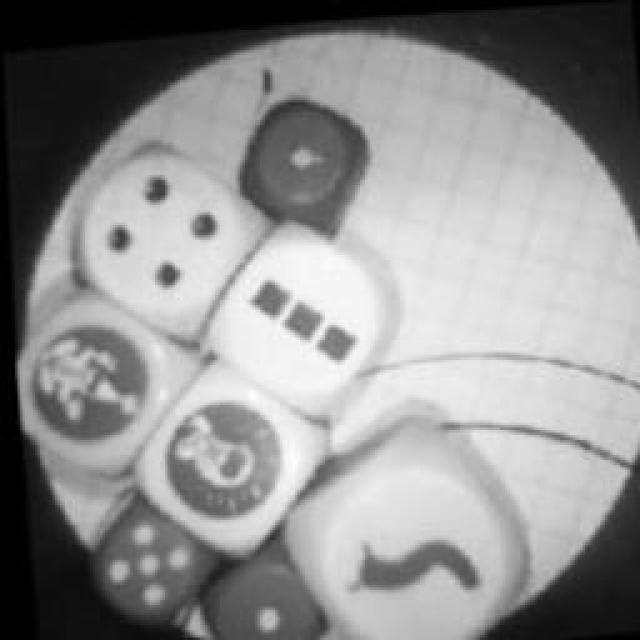dice_1: (220, 79, 382, 244), (188, 525, 334, 640)
dice_4: (45, 111, 275, 351)
dice_5: (65, 475, 217, 637)
